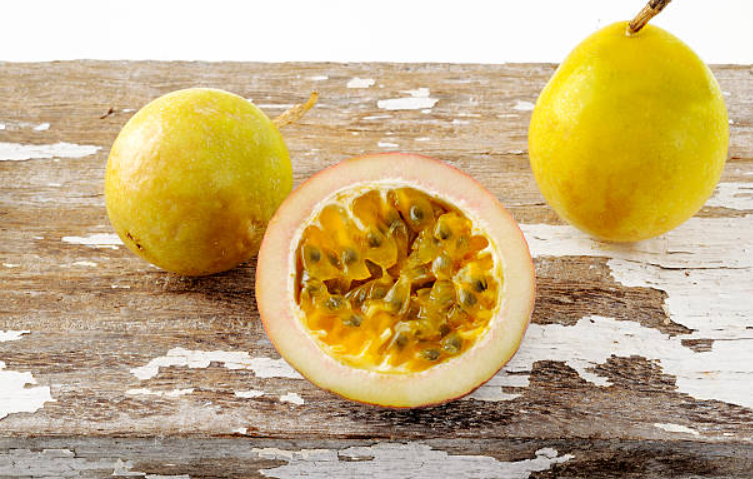maracuya: (517, 13, 736, 267), (101, 80, 300, 285)
